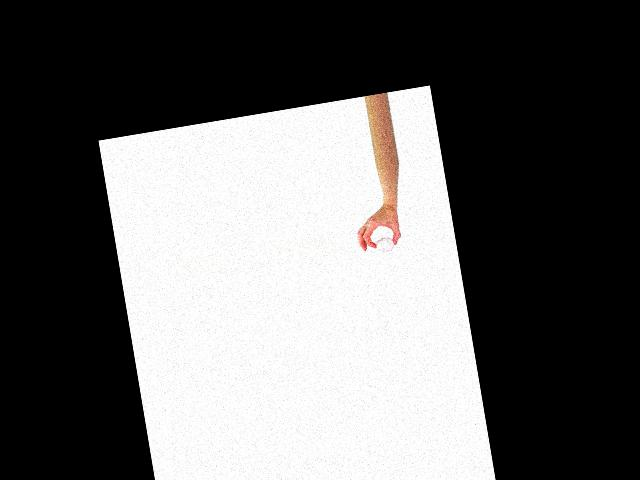egg: (375, 235, 395, 253)
